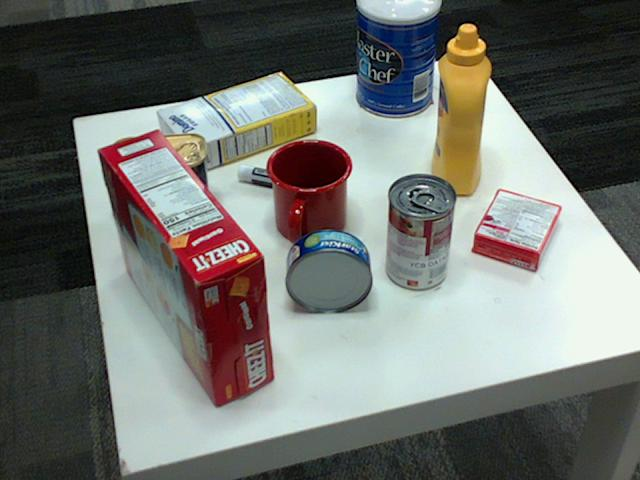cracker_box: (96, 128, 274, 404)
gelatin_box: (473, 188, 562, 270)
large_marker: (236, 167, 336, 198)
master_chef_can: (354, 0, 439, 116)
mug: (267, 136, 354, 243)
mustard_bottle: (431, 25, 490, 194)
potted_meat_can: (110, 133, 211, 225)
sugar_box: (157, 70, 317, 171)
tomato_soup_can: (386, 173, 456, 289)
tuna_fish_can: (286, 229, 373, 311)
